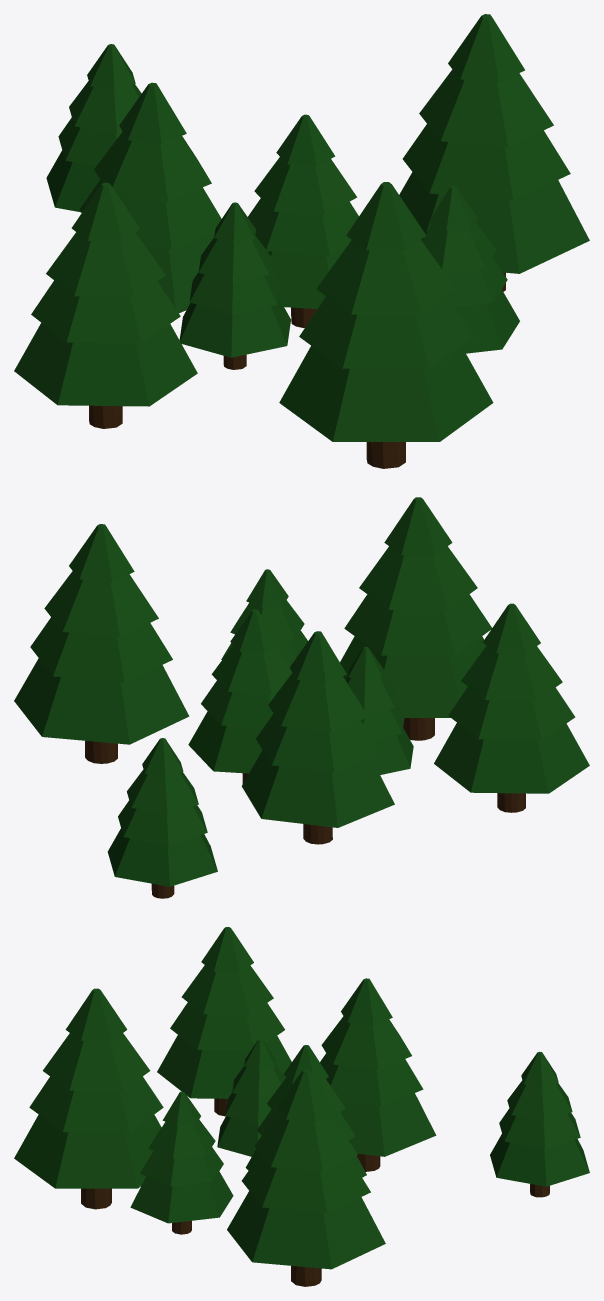
The model's file is forest_medium1.fbx.
3 renders of one model, top to bottom at view 1: azimuth 30°, elevation 25°; view 2: azimuth 150°, elevation 25°; view 3: azimuth 270°, elevation 25°, orthographic. The views are drawn at different scales.
Visible parts, largest first — view 1: Circle.005; view 2: Circle.005; view 3: Circle.005.
Boxes of the visible parts, x1,y1,x2,y2 form: Circle.005: [14, 14, 589, 468]; Circle.005: [14, 497, 589, 898]; Circle.005: [14, 927, 589, 1286].
Size of the model in its own units: 1640 by 764 by 1805.
